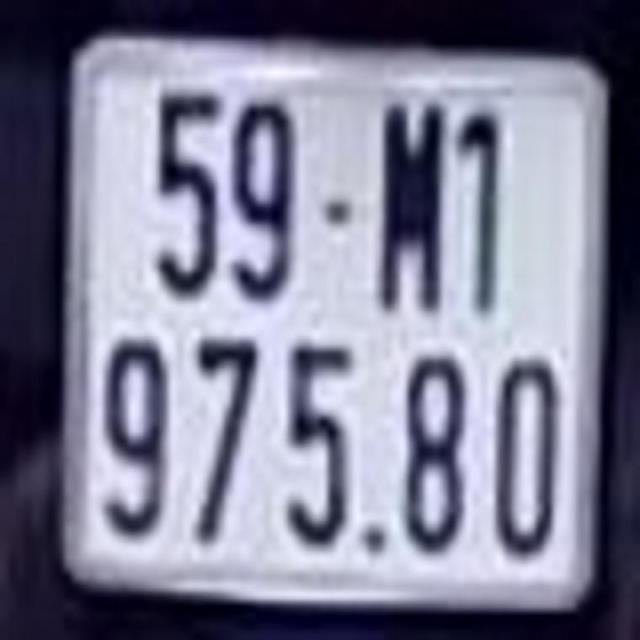0: (496, 362, 563, 552)
1: (458, 112, 508, 311)
5: (286, 342, 350, 548), (156, 99, 222, 295)
7: (192, 338, 263, 545)
8: (404, 354, 467, 556)
9: (100, 341, 168, 534), (229, 103, 295, 297)
M: (381, 107, 447, 312)
